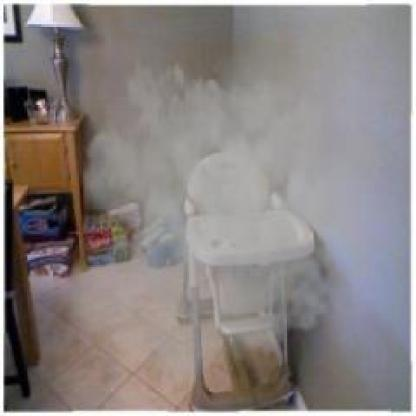Smoke: (59, 34, 395, 398)
